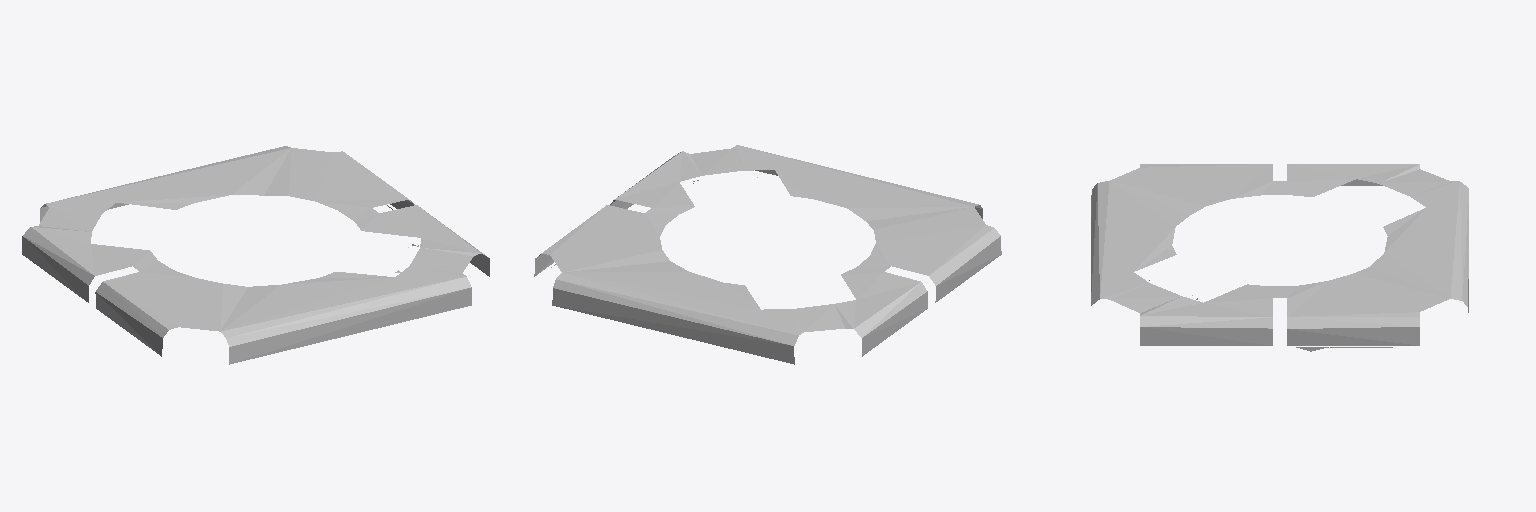
File: pmc_skin_honey.obj
The picture shows the model from 3 angles: view 1: azimuth 30°, elevation 25°; view 2: azimuth 150°, elevation 25°; view 3: azimuth 270°, elevation 25°; orthographic projection.
Visible parts, largest first — view 1: pmc_skin_honey; view 2: pmc_skin_honey; view 3: pmc_skin_honey.
Part boxes in pixels (left/top/right/bottom): pmc_skin_honey: left=22, top=146, right=489, bottom=364; pmc_skin_honey: left=534, top=145, right=1001, bottom=364; pmc_skin_honey: left=1091, top=164, right=1468, bottom=351.
Size of the model in its own units: 0.2946 by 0.0279 by 0.294.